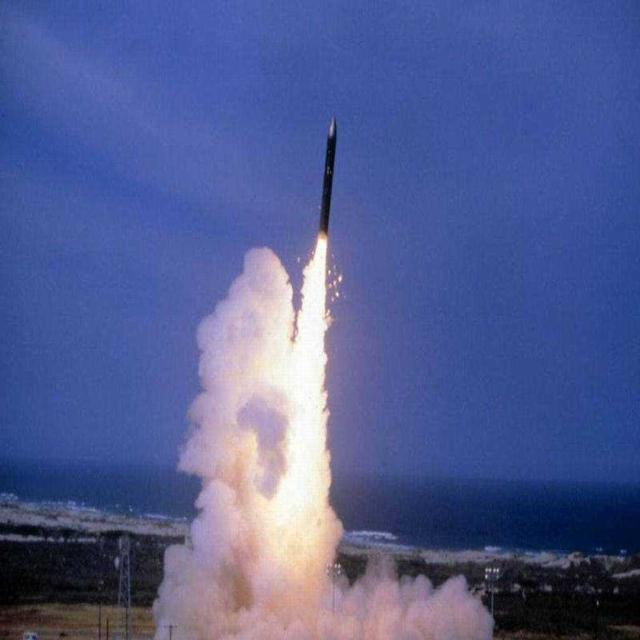missile: (312, 111, 339, 242)
